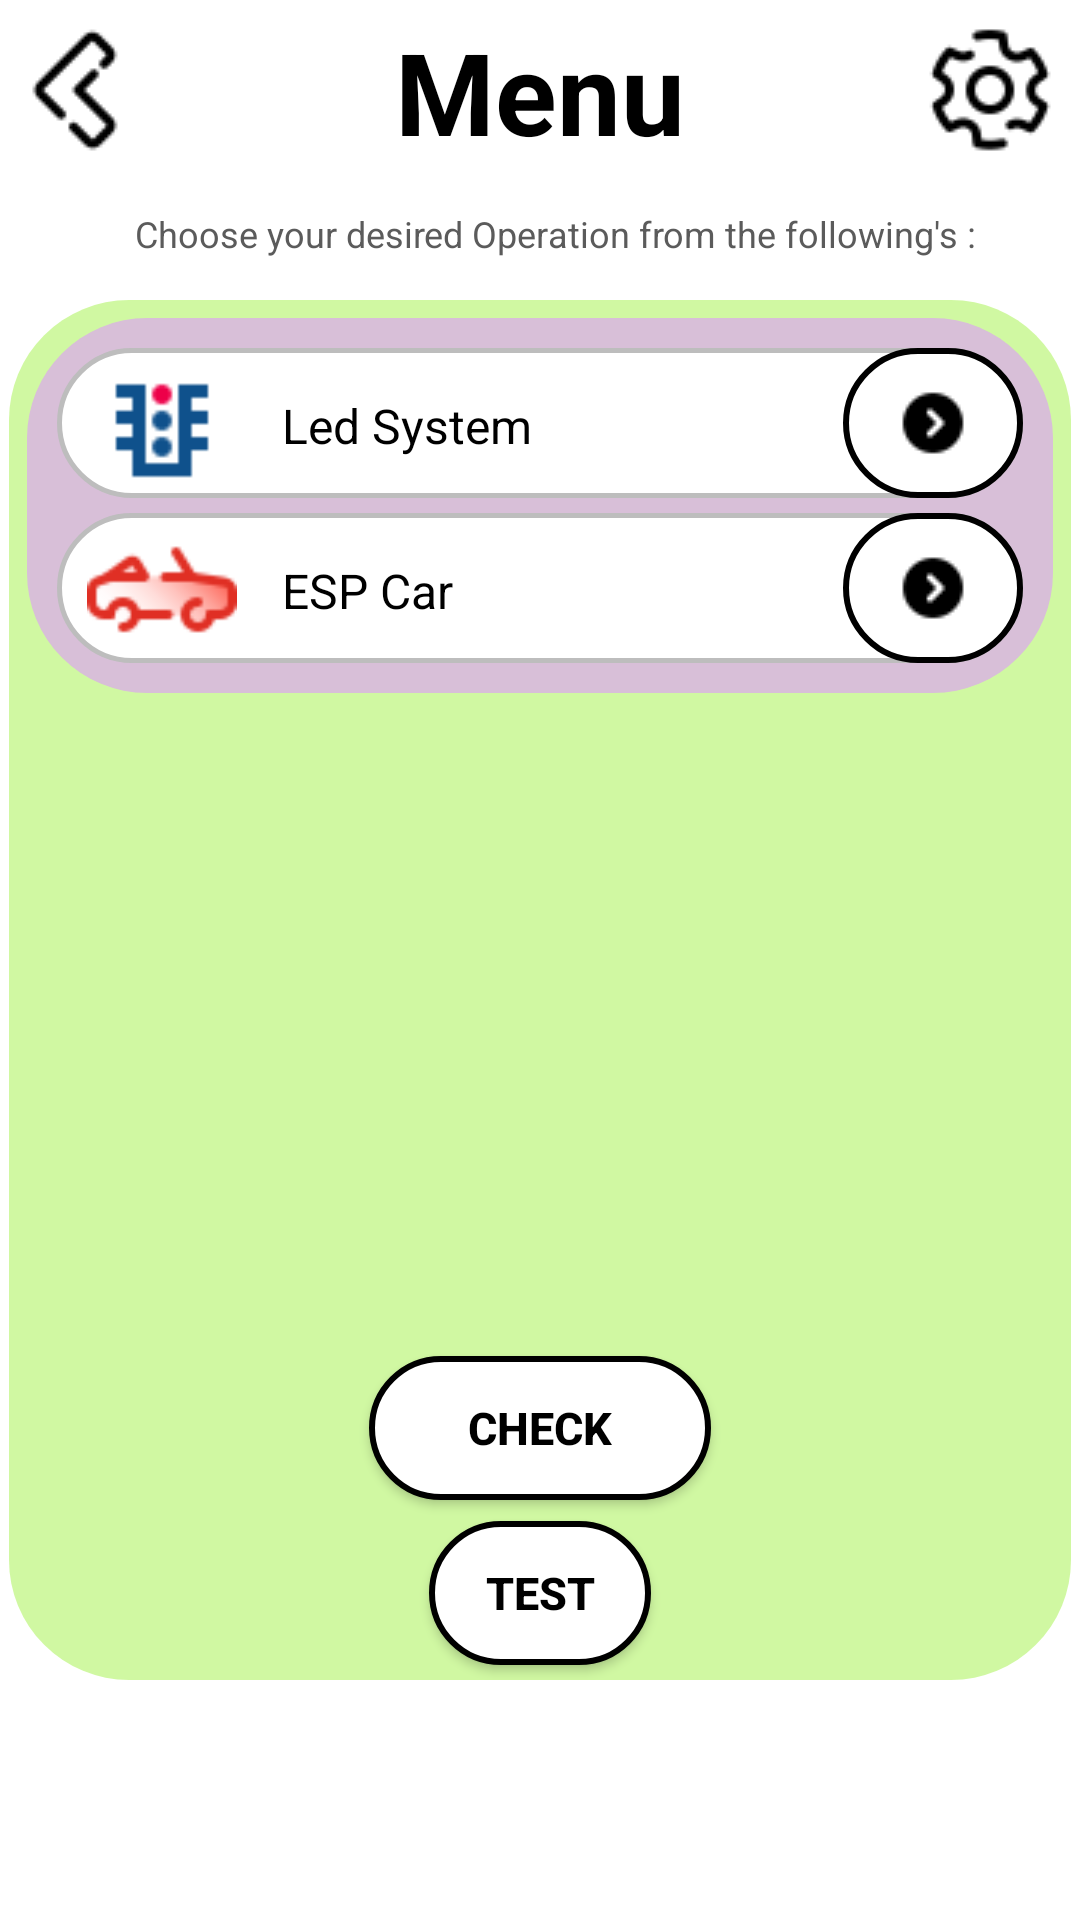

Point at icon controls on the screen. Image size 1080 x 1920, points as (x,y).
back: (75,90)
goforward: (933,423), (933,588)
settings: (990,90)
